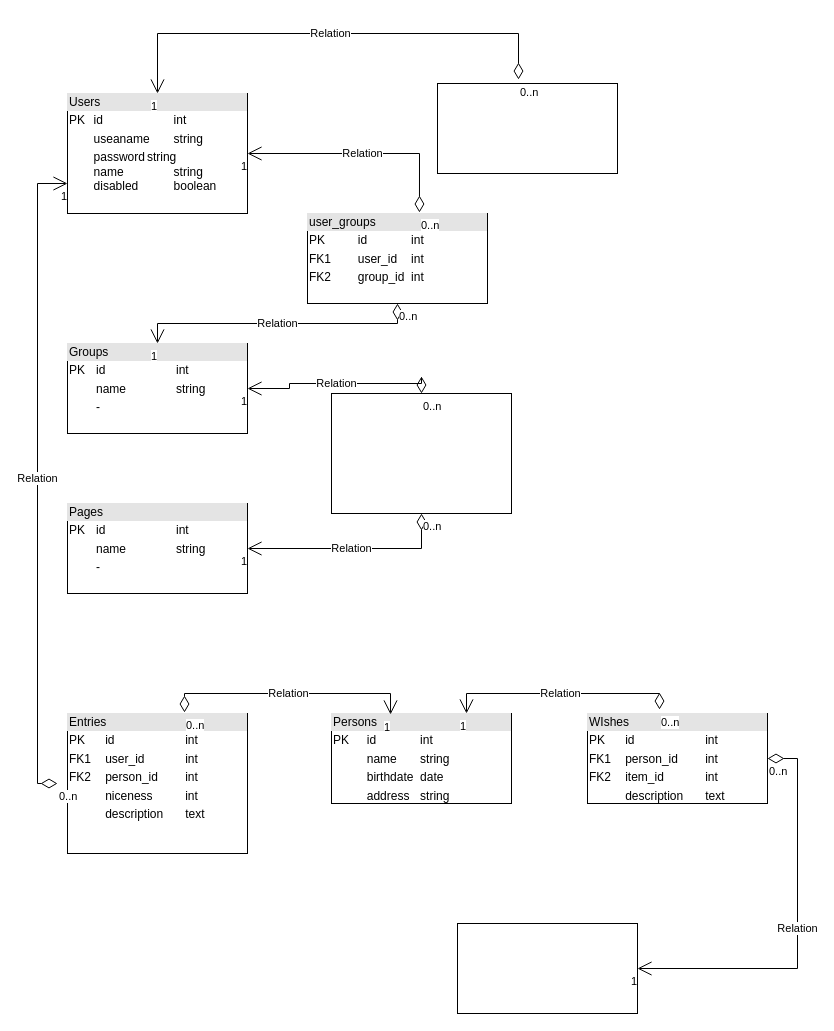
Some shapes in this 834 by 1031 pixel diagram are drawn without their labels. The shapes that lost their labels are listed below. From the top down, each one's centre as x and y in pixels, then its label:
At point (527, 128): "Sessions PK id int FK1 user_id int token text".
At point (421, 453): "Permission PK id int FK1 group_id int FK2 page_id int read boolean write boolean".
At point (547, 968): "Items PK id int name string -".
